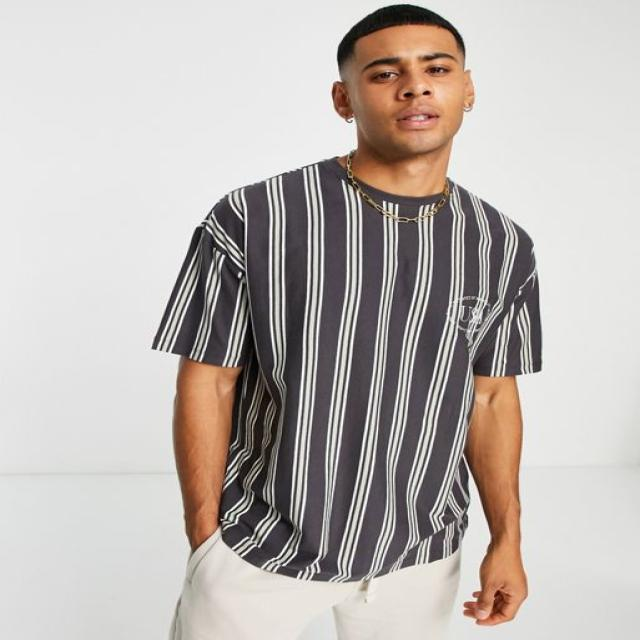tshirt: (151, 157, 544, 580)
